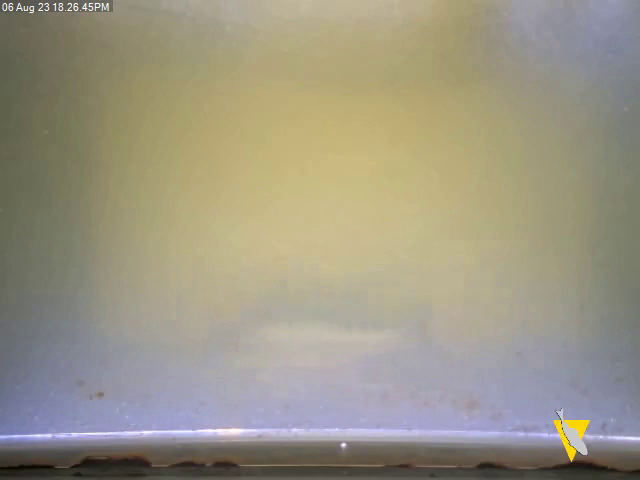\uBCA0\uC2A4: (196, 275, 460, 390)
